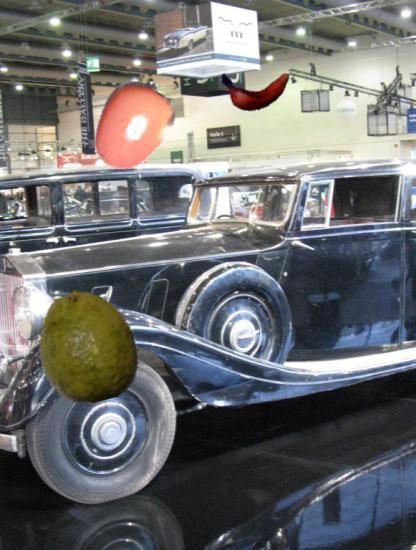Banana: (222, 56, 291, 125)
Guava: (29, 289, 143, 403)
Kaki: (85, 78, 181, 174)
